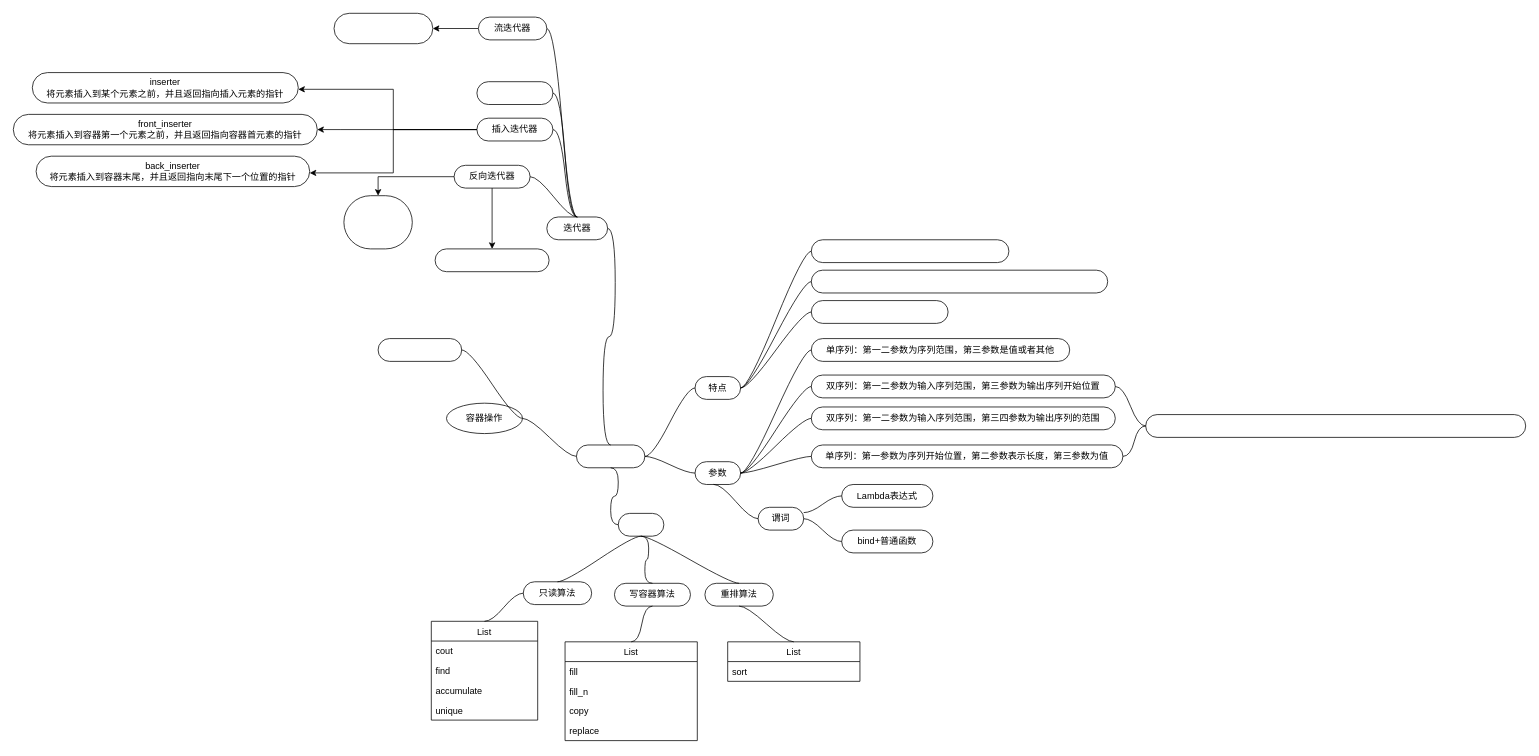
This 1539x756 diagram has some shape labels left out. The shapes that lost their labels are listed below. From the top down, each one's centre as x and y in pixels, then its label:
At [383,28]: "istream_iterator ostream_iterator".
At [514,92]: "移动迭代器".
At [377,222]: "rbegin() crbegin() rend() crend()".
At [491,260]: "base转为普通迭代器".
At [910,251]: "不直接操作容器，也就不能改变容器大小".
At [959,281]: "泛型，使用迭代器，适用于不同类型的容器，甚至是其他数据结构".
At [879,311]: "依赖于容器元素具备的操作".
At [419,349]: "容器成员函数".
At [1335,425]: "前提假设：目的序列有足够大小，否则可以使用插入迭代器,或者写前用reverse分配内存".
At [610,456]: "泛型算法".
At [641,524]: "分类".
